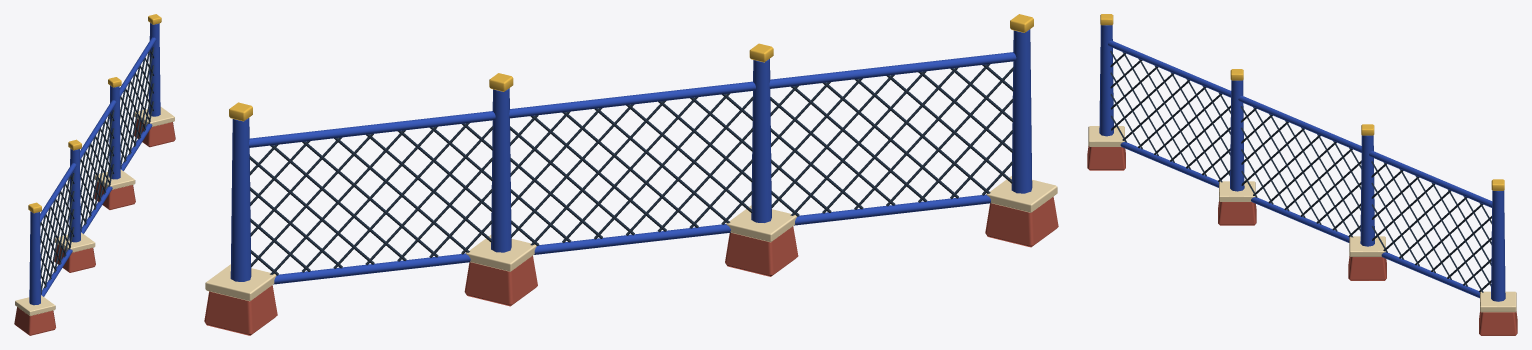
File: fence_3.glb
3 renders of one model, left to right at view 1: azimuth 30°, elevation 25°; view 2: azimuth 150°, elevation 25°; view 3: azimuth 270°, elevation 25°, orthographic. The views are drawn at different scales.
Visible parts, largest first — view 1: fence_3; view 2: fence_3; view 3: fence_3.
Boxes of the visible parts, left/top/right/bottom form: fence_3: left=14, top=14, right=175, bottom=335; fence_3: left=204, top=14, right=1058, bottom=335; fence_3: left=1087, top=14, right=1517, bottom=335.
Bounding box in the file's own units: 4.94 × 1.87 × 4.94.
